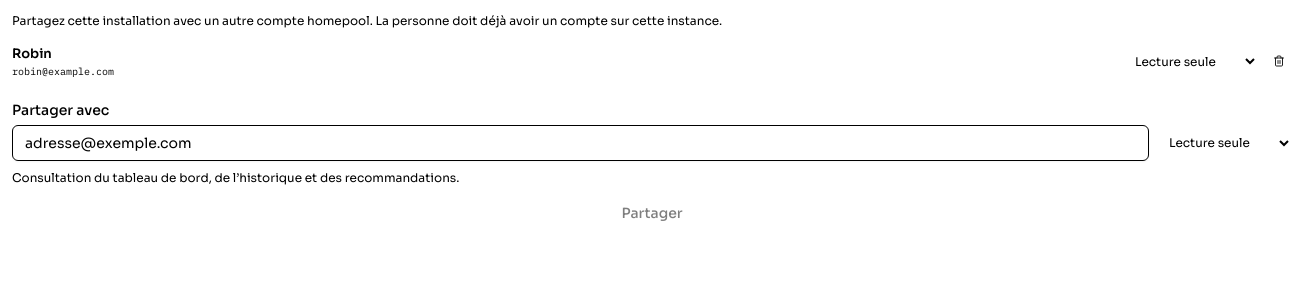
Test: SharingTab › posts the email and role when sharing
The image size is (1304, 292).
expect the text "Robin" is shown: met, box [12, 45, 52, 62]
Type "sam@example.com" into the field with placeholder "adresse@exemple.com" at (580, 142), box [12, 124, 1149, 160]
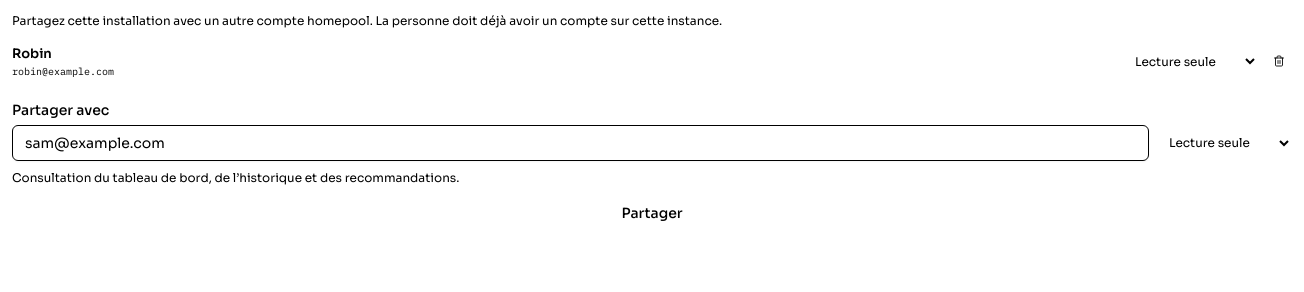
Click the button "Partager" at (652, 212), box [12, 194, 1292, 230]
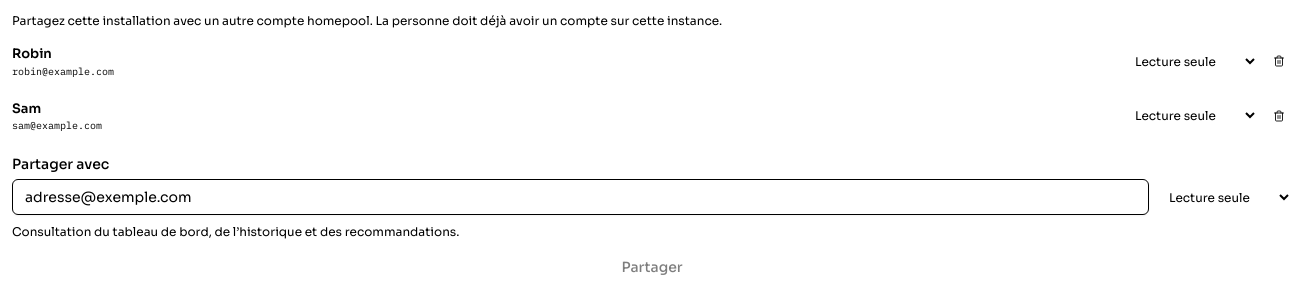
expect the text "Sam" is shown: met, box [12, 100, 41, 116]
